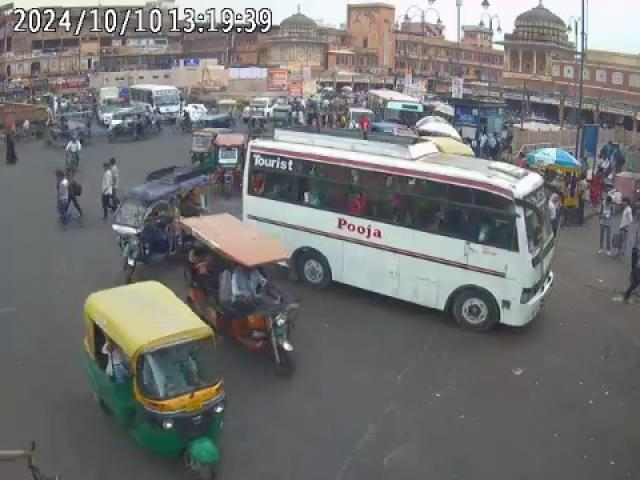auto: (81, 282, 230, 480), (181, 212, 301, 375), (112, 164, 188, 270), (190, 133, 246, 184)
bus: (239, 123, 557, 328), (125, 85, 181, 122)
person: (55, 171, 80, 228), (101, 158, 122, 221), (64, 136, 85, 176), (4, 131, 21, 165)
